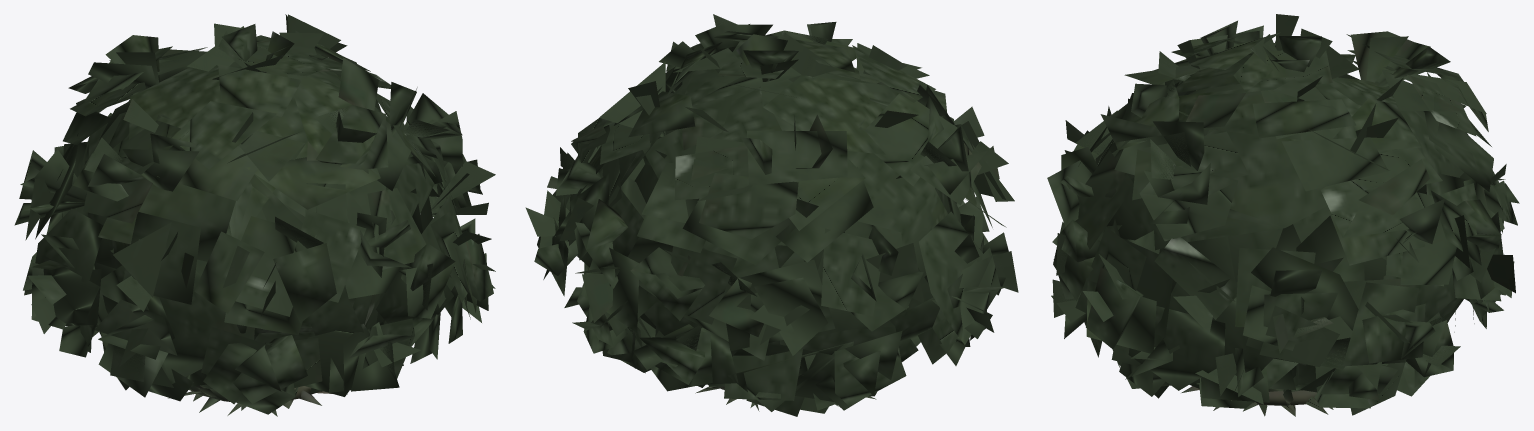
Rendered from shrub.glb.
3 views of the same model, side by side, from view 1: azimuth 30°, elevation 25°; view 2: azimuth 150°, elevation 25°; view 3: azimuth 270°, elevation 25° (orthographic). The views are drawn at different scales.
Bounding box in the file's own units: 0.958 × 0.6915 × 0.8721.
1 material, 1 textured.
